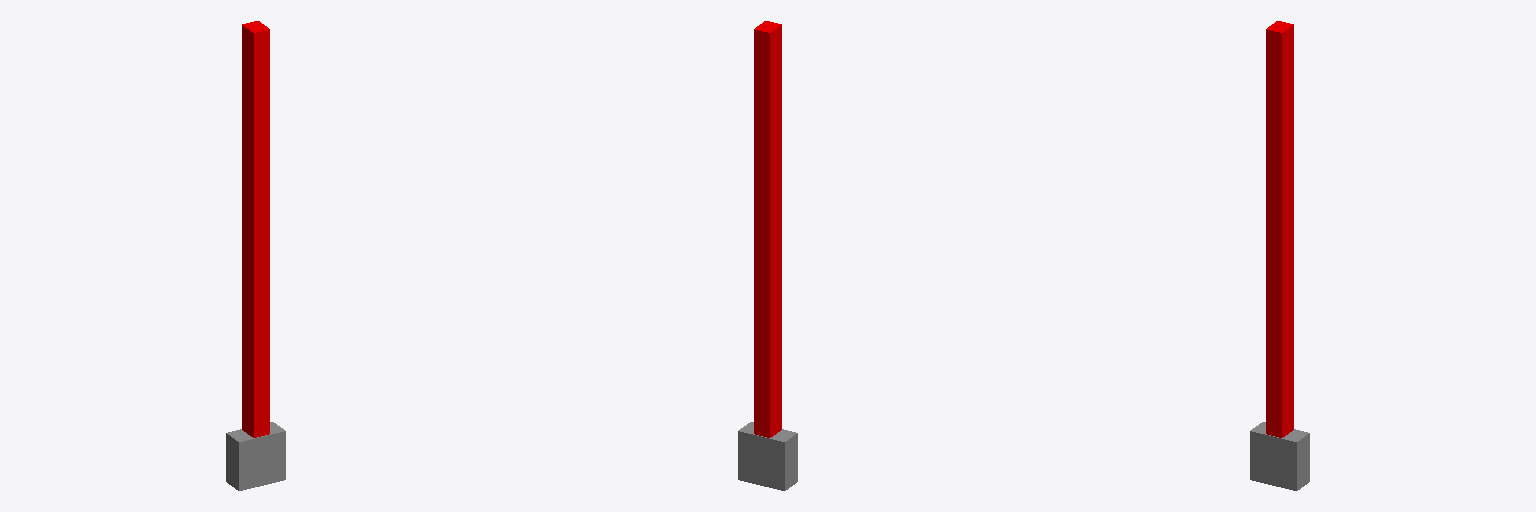
URDF robot description (omnipointer):
<?xml version="1.0" ?>
<robot name="omnipointer">
  <material name="omni/Blue">
    <color rgba="0 0 0.8 1"/>
  </material>
  <material name="omni/Red">
    <color rgba="1 0 0 1"/>
  </material>
  <material name="omni/Green">
    <color rgba="0 1 0 1"/>
  </material>
  <material name="omni/Yellow">
    <color rgba="1 1 0 1"/>
  </material>
  <material name="omni/LightGrey">
    <color rgba="0.6 0.6 0.6 1"/>
  </material>
  <material name="omni/DarkGrey">
    <color rgba="0.4 0.4 0.4 1"/>
  </material>
  <link name="base_link">
    <visual>
      <origin rpy="0 0 0" xyz="0 0 0.05715"/>
      <geometry>
        <box size="0.1143 0.0545 0.1143"/>
      </geometry>
      <material name="omni/LightGrey"/>
    </visual>
    <inertial>
      <origin rpy="0 0 0" xyz="0 0 0.05715"/>
      <mass value="0.2"/>
      <inertia ixx="0.000267245666667" ixy="0" ixz="0" iyy="0.000435483" iyz="0" izz="0.000267245666667"/>
    </inertial>
  </link>
  <link name="pendulum_link_1">
    <visual>
      <origin rpy="0 0 0" xyz="0 0 0.5"/>
      <geometry>
        <box size="0.0402 0.05 1"/>
      </geometry>
      <material name="omni/Red"/>
    </visual>
    <inertial>
      <origin rpy="0 0 0" xyz="0 0 0.5"/>
      <mass value="1000.5"/>
      <inertia ixx="83.5416666667" ixy="0" ixz="0" iyy="83.4680033333" iyz="0" izz="0.343003333333"/>
    </inertial>
  </link>
  <joint name="pendulum_joint_1" type="continuous">
    <parent link="base_link"/>
    <child link="pendulum_link_1"/>
    <origin rpy="0 0 0" xyz="0 0.0 0.05715"/>
    <axis xyz="0 1 0"/>
    <dynamics damping="0.0" friction="0.0"/> 
  </joint>
</robot>

--- Facts derived from the render (not from the file) ---
Views: 3 orthographic renders of the robot side by side, from view 1: azimuth 30°, elevation 25°; view 2: azimuth 150°, elevation 25°; view 3: azimuth 330°, elevation 25°.
Model omnipointer with 2 links and 1 joints (1 continuous), rooted at base_link, posed all joints at 0.
Links seen in each view (by area): view 1: pendulum_link_1, base_link; view 2: pendulum_link_1, base_link; view 3: pendulum_link_1, base_link.
Link boxes in pixels (box(x1,y1,x2,y2)): pendulum_link_1: box(242, 21, 269, 437); base_link: box(226, 422, 285, 490); pendulum_link_1: box(754, 21, 781, 437); base_link: box(738, 422, 797, 490); pendulum_link_1: box(1266, 21, 1293, 437); base_link: box(1250, 422, 1309, 490).
Bounding box of the posed robot: 0.1143 × 0.0545 × 1.06 m (x, y, z).
Geometry: primitives only (box / cylinder / sphere), no mesh files.